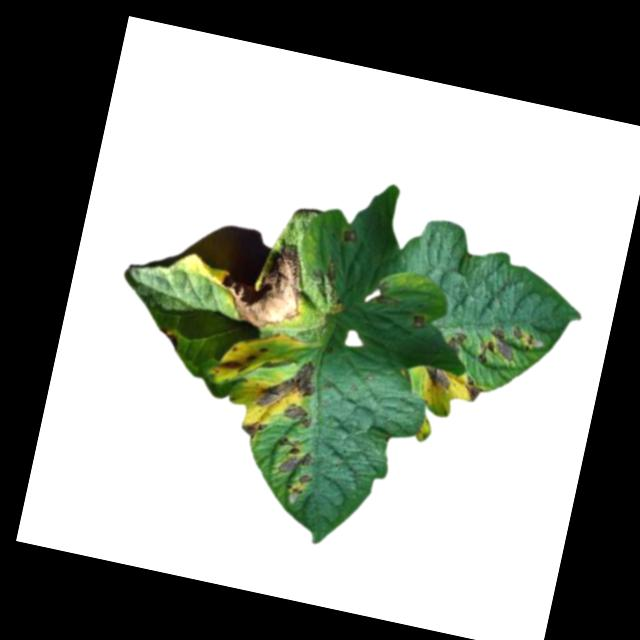Early_blight: (214, 234, 311, 338), (255, 350, 322, 419), (265, 434, 321, 506), (474, 318, 543, 376), (217, 337, 268, 380), (418, 364, 454, 393), (283, 402, 315, 429), (239, 417, 269, 443), (460, 375, 486, 404), (444, 331, 467, 355), (408, 311, 428, 335), (159, 330, 178, 355), (341, 229, 360, 247)
